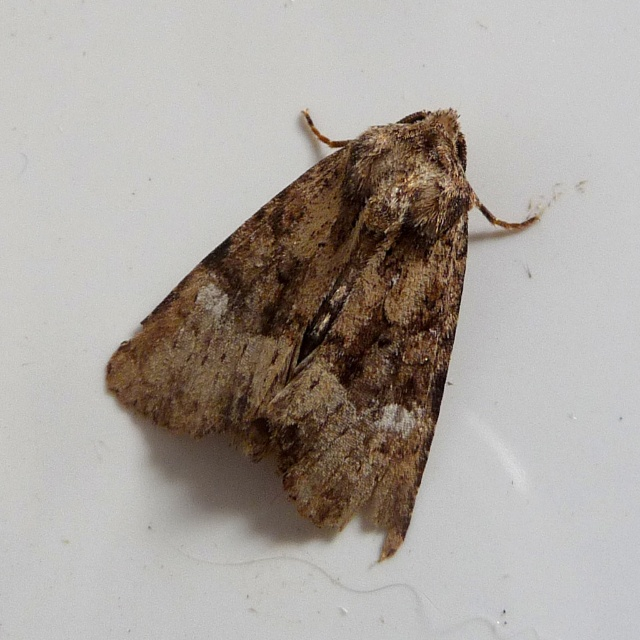Moths and butterflies: (104, 104, 542, 557)
